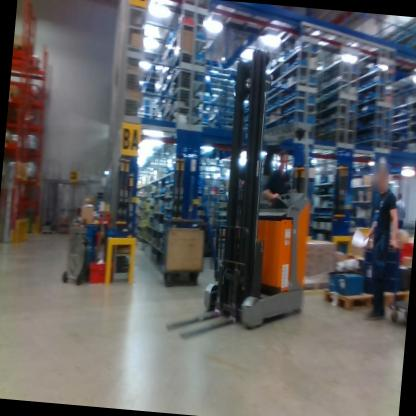forklift: (162, 40, 335, 361)
pallet: (323, 284, 382, 315), (377, 284, 410, 311)
small_load_carrier: (85, 258, 117, 291)
